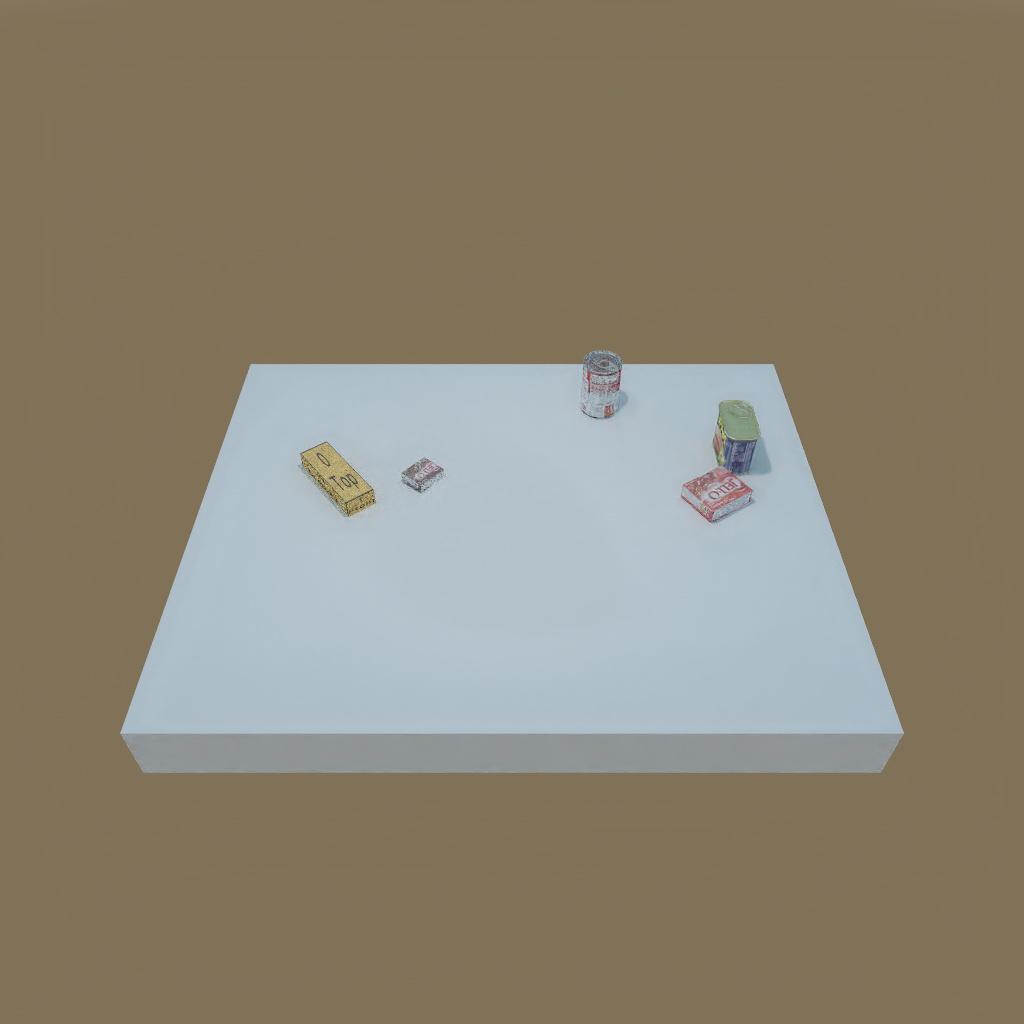gelatin_box: (684, 466, 756, 519)
jenga: (299, 440, 377, 516)
potted_meat_can: (709, 397, 754, 474)
pudding_box: (400, 454, 442, 494)
tomato_soup_can: (579, 350, 623, 423)
